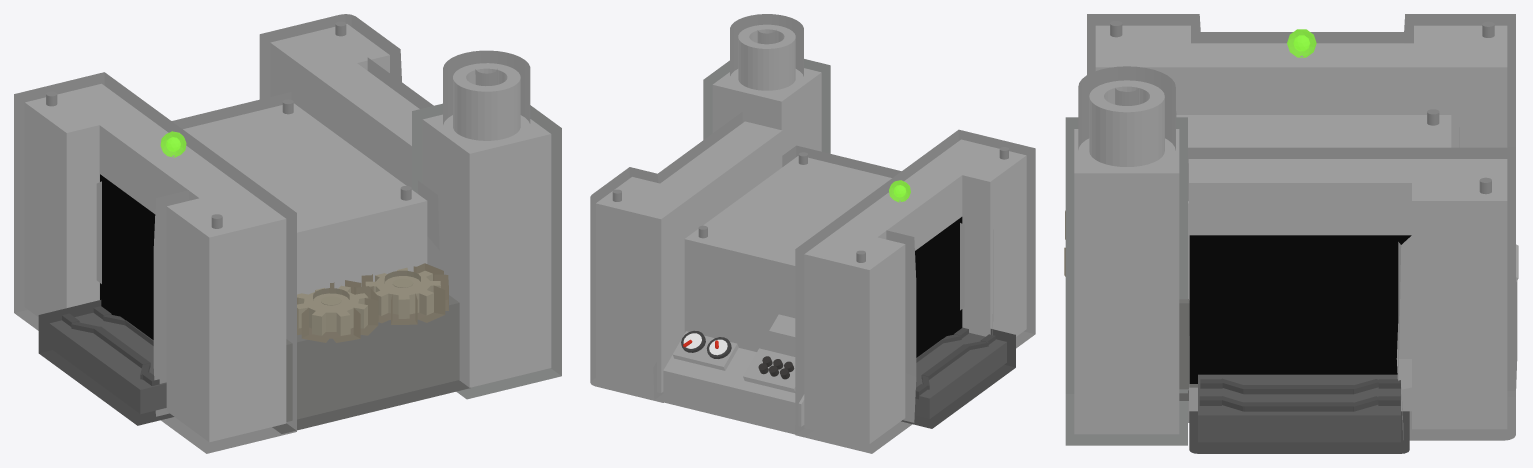
File: assembler.glb
3 views of the same model, side by side, from view 1: azimuth 30°, elevation 25°; view 2: azimuth 150°, elevation 25°; view 3: azimuth 270°, elevation 25° (orthographic). The views are drawn at different scales.
Visible parts, largest first — view 1: Cube.001, Cube.003, Cube, Cube.002, Cube.006, Cube.004, Cylinder, Plane.001, Cylinder.001, Cylinder.005, Cube.005, Cylinder.002 (+1 smaller); view 2: Cube.001, Cube, Cube.002, Cube.003, Cube.004, Cylinder, Plane.001, Cube.005, Cube.008, Cube.007, Cylinder.002, Cube.009; view 3: Cube.002, Cube.001, Cube.003, Plane, Cube.004, Cube, Cylinder, Cube.010, Cube.006, Cylinder.002, Icosphere.002.
Boxes of the visible parts, x1,y1,x2,y2 form: Cube.001: (14, 72, 296, 453); Cube.003: (412, 103, 561, 399); Cube: (172, 92, 439, 294); Cube.002: (259, 14, 433, 189); Cube.006: (272, 295, 470, 433); Cube.004: (38, 300, 174, 425); Cylinder: (443, 50, 530, 140); Plane.001: (100, 174, 155, 339); Cylinder.001: (297, 280, 378, 342); Cylinder.005: (361, 263, 448, 324); Cube.005: (62, 306, 159, 385); Cylinder.002: (46, 21, 411, 228); Cube.001: (795, 129, 1035, 453); Cube: (653, 145, 901, 436); Cube.002: (590, 112, 782, 402); Cube.003: (703, 59, 830, 155); Cube.004: (901, 329, 1015, 428); Cylinder: (730, 14, 803, 90); Plane.001: (915, 217, 962, 357); Cube.005: (915, 327, 995, 399); Cube.008: (743, 348, 795, 392); Cube.007: (672, 331, 738, 370); Cylinder.002: (612, 147, 1008, 262); Cube.009: (769, 314, 795, 339); Cube.002: (1188, 147, 1515, 440); Cube.001: (1087, 14, 1515, 147); Cube.003: (1065, 117, 1187, 445); Plane: (1189, 235, 1411, 383); Cube.004: (1189, 374, 1409, 453); Cube: (1176, 115, 1517, 396); Cylinder: (1078, 66, 1175, 166); Cube.010: (1199, 378, 1400, 411); Cube.006: (1179, 299, 1197, 400); Cylinder.002: (1110, 21, 1494, 194); Icosphere.002: (1287, 29, 1316, 57).
Size of the model in its own units: 3.92 by 2.93 by 3.61.
